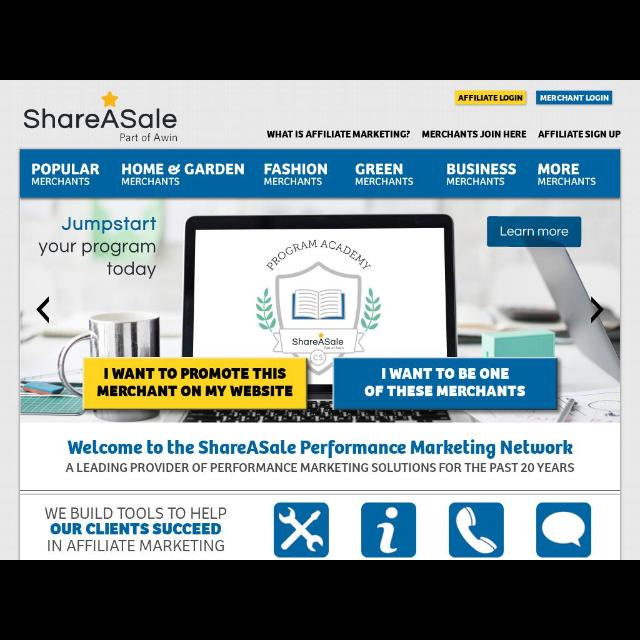image: (21, 198, 621, 424), (24, 91, 178, 142), (448, 502, 504, 558), (274, 502, 328, 558), (362, 502, 416, 558)
multitab: (21, 149, 621, 197)
text: (69, 439, 574, 458), (45, 507, 226, 551), (66, 463, 574, 472), (122, 164, 245, 186), (447, 163, 517, 185), (32, 163, 100, 185), (264, 163, 328, 184), (355, 164, 413, 186), (538, 164, 596, 186), (266, 130, 409, 138), (422, 130, 526, 138), (539, 131, 621, 139), (540, 95, 608, 101), (459, 95, 523, 101)
textbutton: (536, 91, 612, 105), (456, 92, 526, 105)
